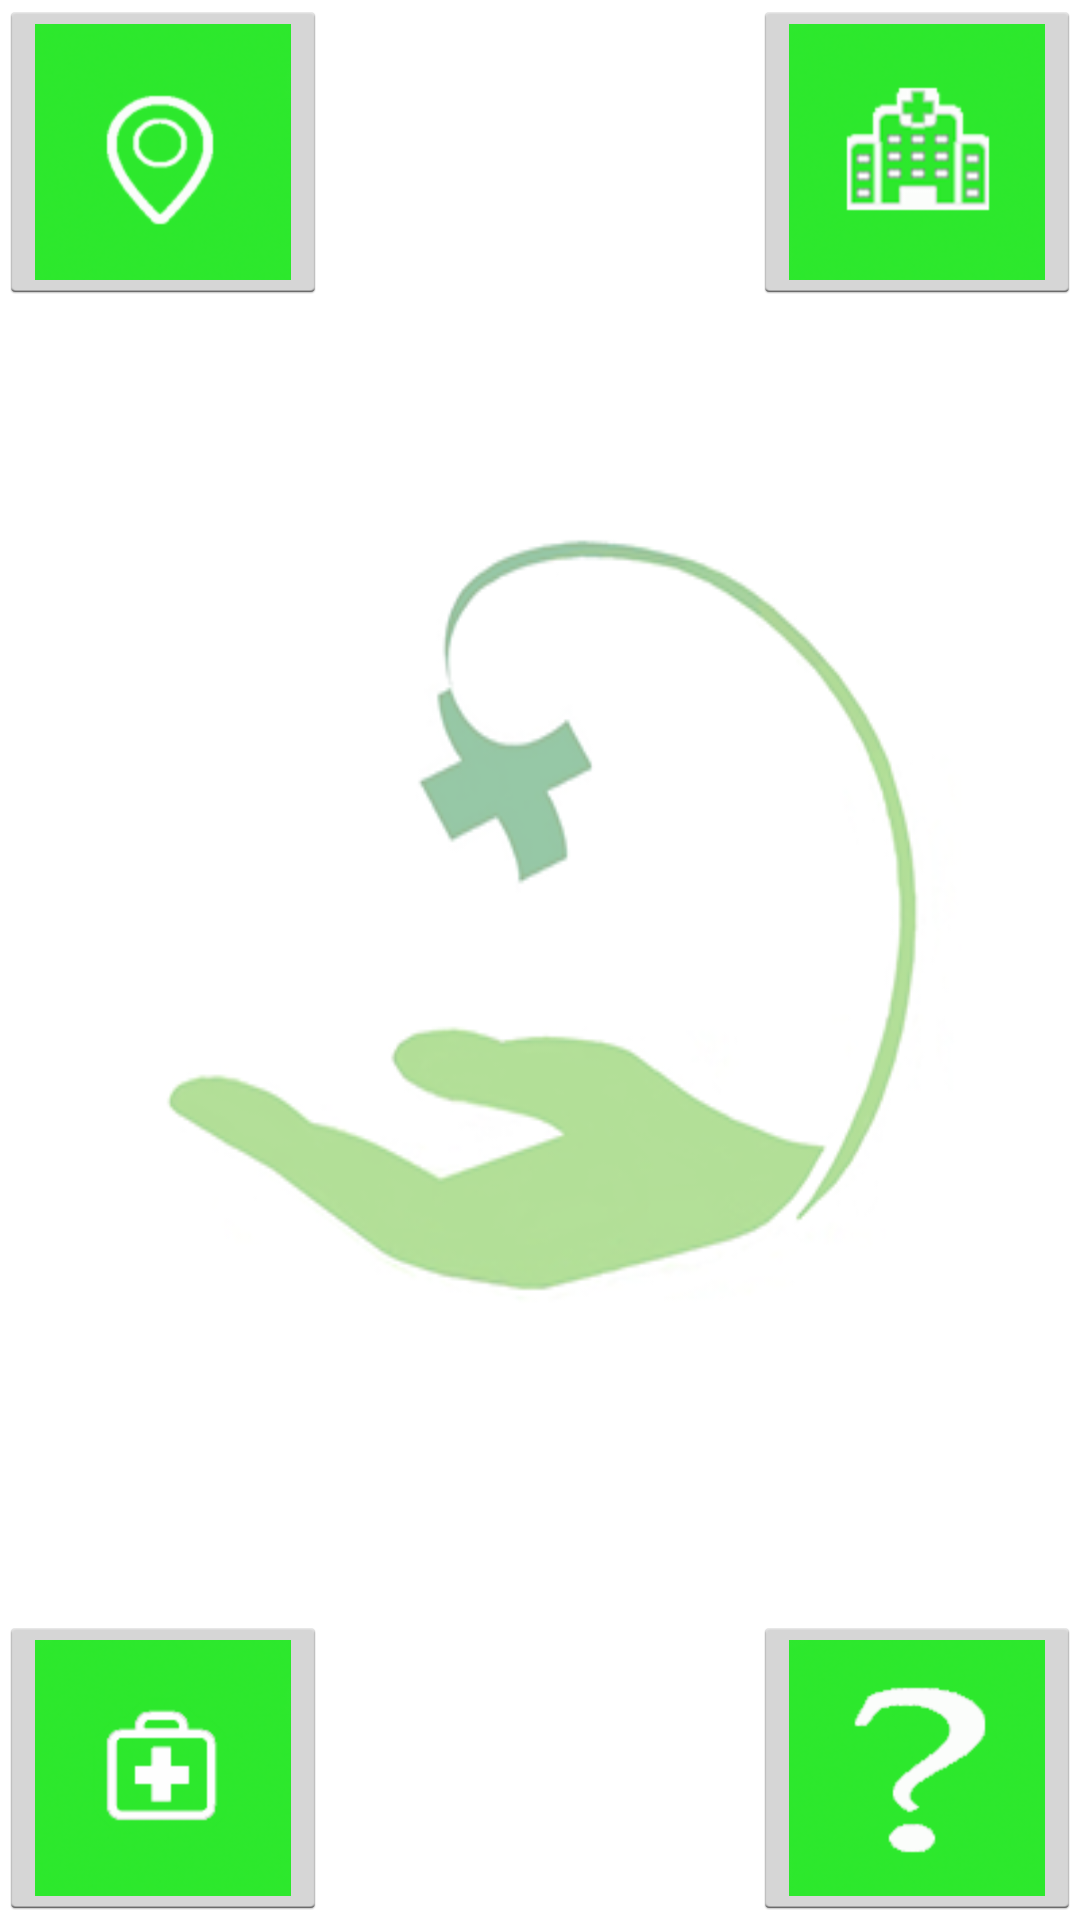

Icons on this 1080×1920 Android screen, each with its box as {"x1": x1, "y1": y1, "x2": x2, "y2": y2}:
especiali: {"x1": 11, "y1": 1629, "x2": 315, "y2": 1909}
local: {"x1": 11, "y1": 13, "x2": 315, "y2": 293}
sobre: {"x1": 765, "y1": 1629, "x2": 1069, "y2": 1909}
uds: {"x1": 765, "y1": 13, "x2": 1069, "y2": 293}
